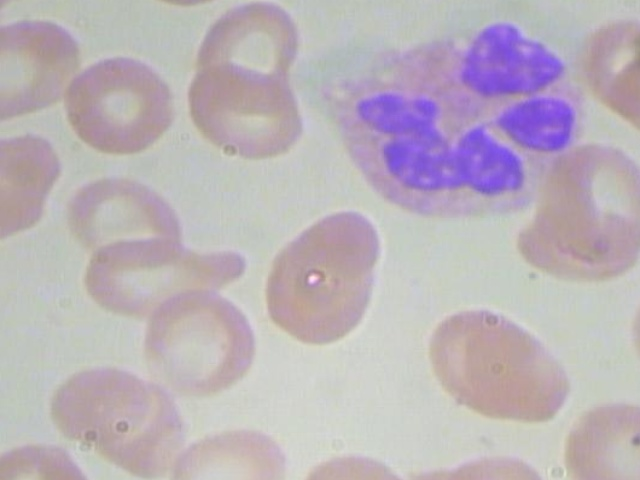RBC: (418, 296, 575, 426), (262, 199, 395, 343), (46, 240, 250, 318), (54, 174, 199, 274), (52, 46, 178, 157), (191, 0, 308, 111), (133, 290, 255, 395), (31, 363, 155, 448), (573, 6, 640, 118), (614, 278, 640, 387)
WBC: (315, 14, 591, 223)
